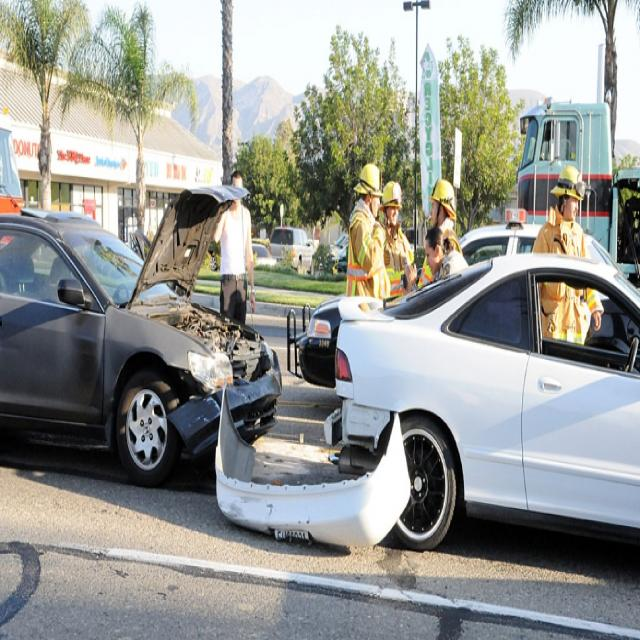crush: (126, 184, 283, 454)
missing: (324, 396, 396, 474)
